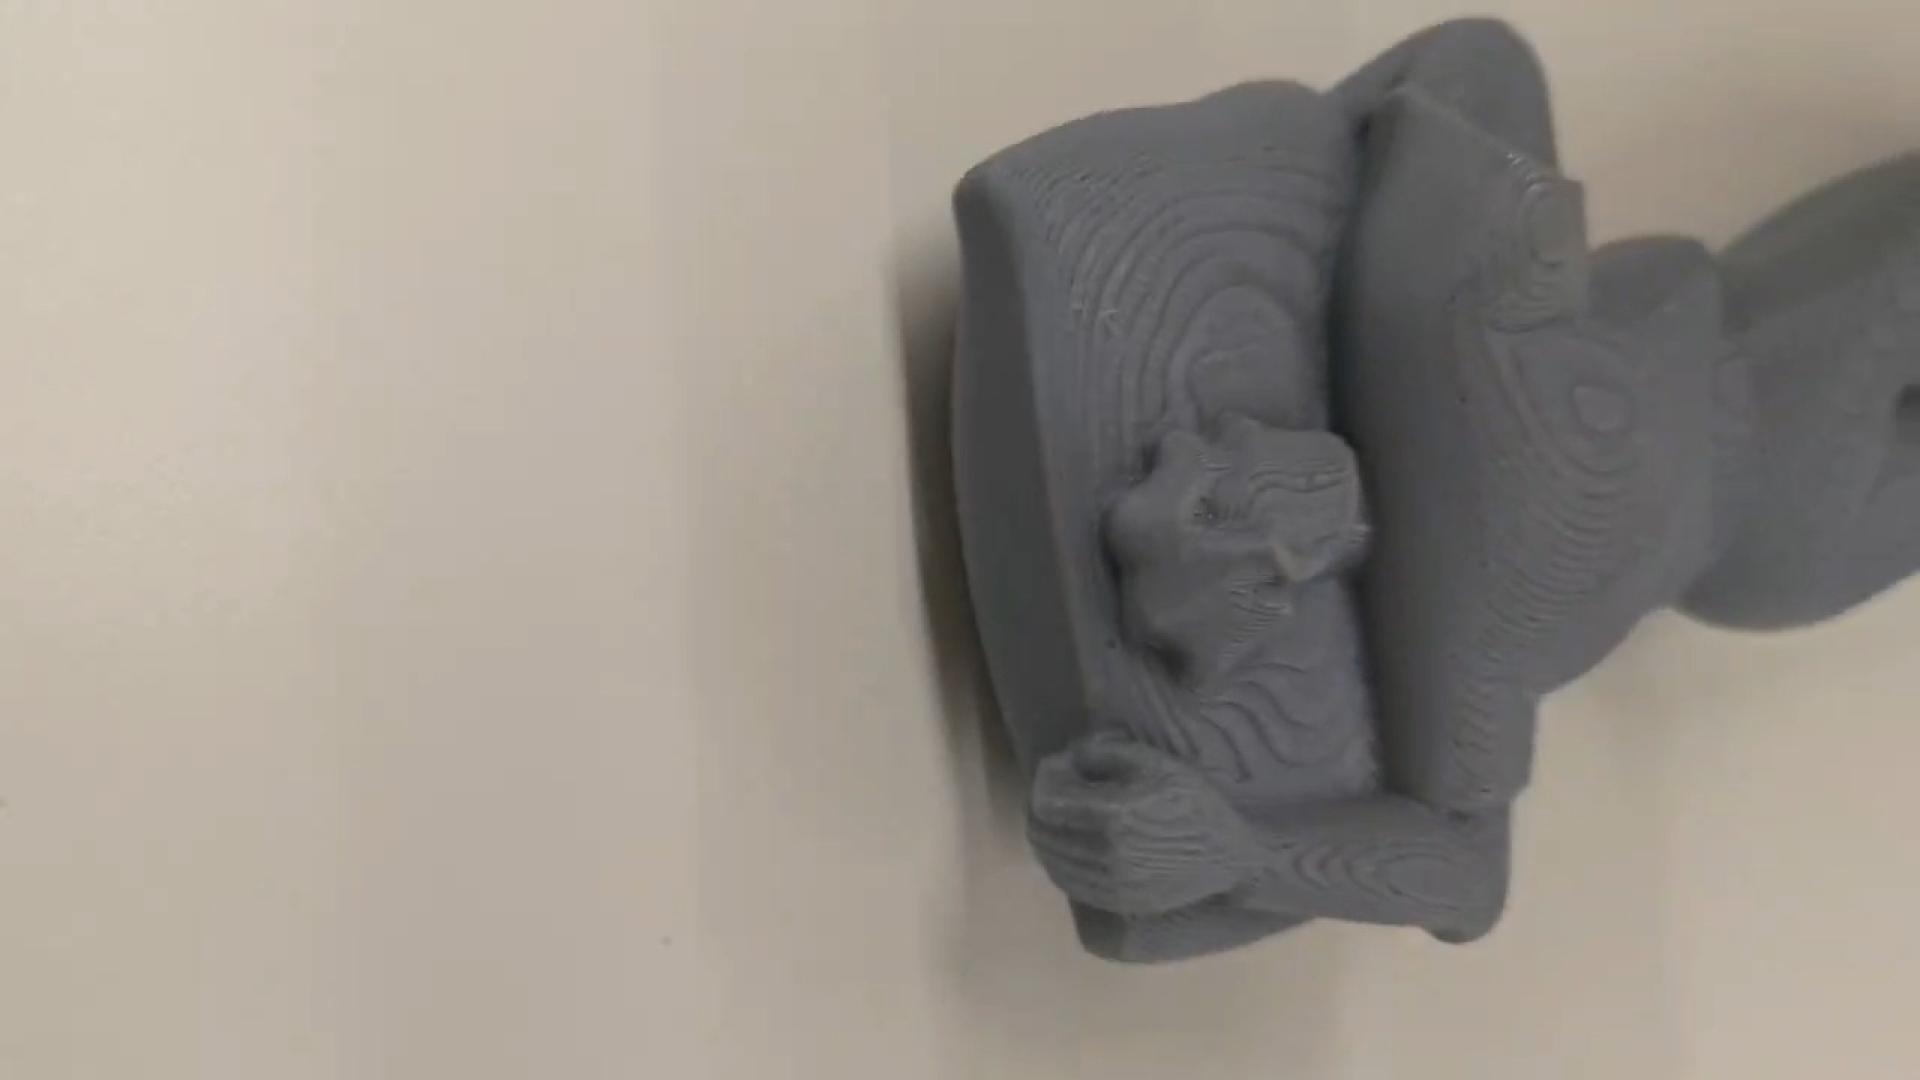Bad-style: (940, 11, 1920, 977)
